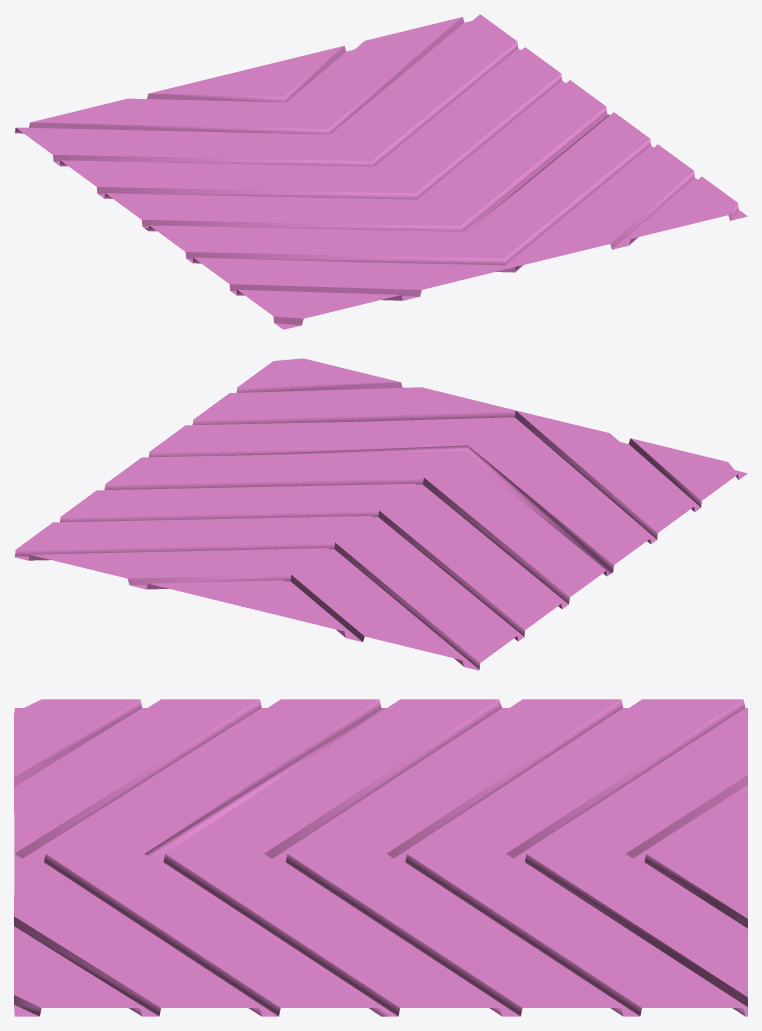
The model's file is ENV_HAU_FLOOR_MODEL.fbx.
3 renders of one model, top to bottom at view 1: azimuth 30°, elevation 25°; view 2: azimuth 150°, elevation 25°; view 3: azimuth 270°, elevation 25°, orthographic. The views are drawn at different scales.
Visible parts, largest first — view 1: ENV_HAU_FLOOR_MODEL; view 2: ENV_HAU_FLOOR_MODEL; view 3: ENV_HAU_FLOOR_MODEL.
Part boxes in pixels (x1=…): ENV_HAU_FLOOR_MODEL: x1=14, y1=14, x2=747, y2=329; ENV_HAU_FLOOR_MODEL: x1=14, y1=358, x2=747, y2=670; ENV_HAU_FLOOR_MODEL: x1=14, y1=699, x2=747, y2=1016.
Bounding box in the file's own units: 100 × 1.29 × 100.
